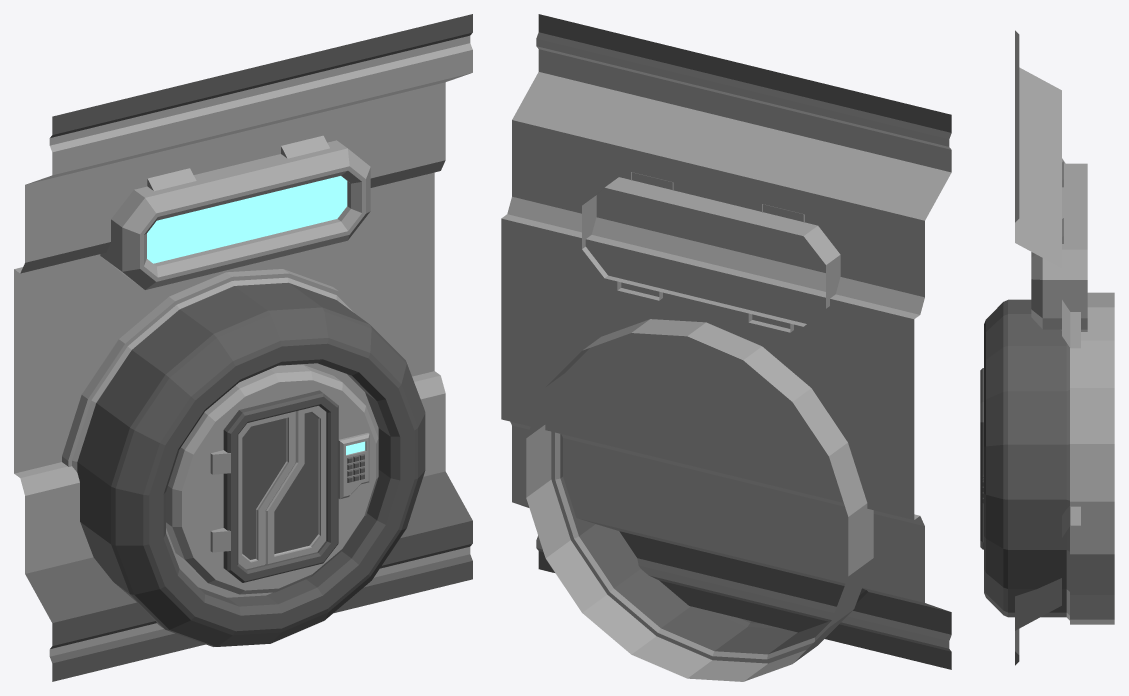
The model's file is SM_WallSectionPod.fbx.
3 renders of one model, left to right at view 1: azimuth 30°, elevation 25°; view 2: azimuth 150°, elevation 25°; view 3: azimuth 270°, elevation 25°, orthographic. The views are drawn at different scales.
Visible parts, largest first — view 1: SM_WallSectionPod; view 2: SM_WallSectionPod; view 3: SM_WallSectionPod.
Boxes of the visible parts, x1,y1,x2,y2 form: SM_WallSectionPod: (14, 14, 472, 681); SM_WallSectionPod: (501, 14, 951, 681); SM_WallSectionPod: (980, 30, 1114, 665).
Size of the model in its own units: 200 by 265 by 63.7.
